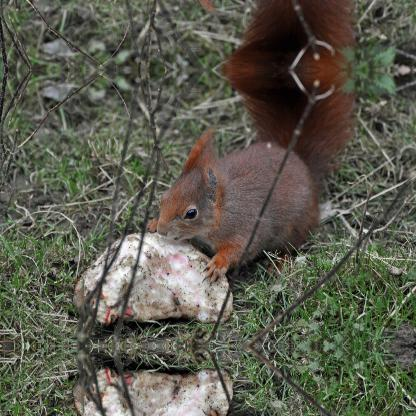Squirrel: (142, 68, 356, 276), (142, 0, 356, 70)
